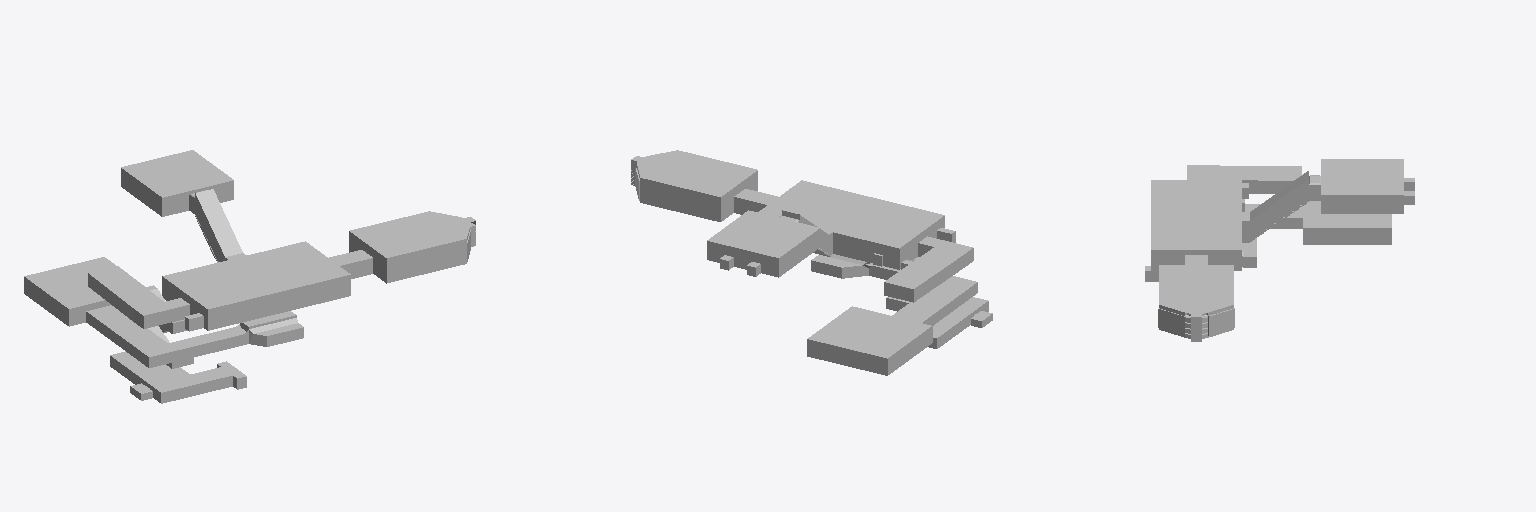
The model's file is BaseMAp.obj.
3 views of the same model, side by side, from view 1: azimuth 30°, elevation 25°; view 2: azimuth 150°, elevation 25°; view 3: azimuth 270°, elevation 25° (orthographic).
Parts seen in each view (by area): view 1: Plane; view 2: Plane; view 3: Plane.
Part boxes in pixels (left/top/right/bottom): Plane: left=24, top=150, right=475, bottom=403; Plane: left=631, top=150, right=992, bottom=375; Plane: left=1145, top=159, right=1414, bottom=341.
Bounding box in the file's own units: 135 × 46.4 × 89.53.